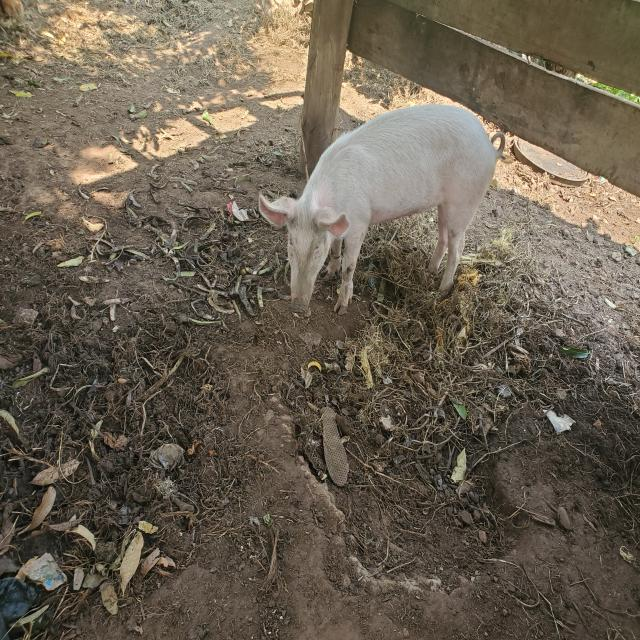pig: (210, 75, 541, 353)
